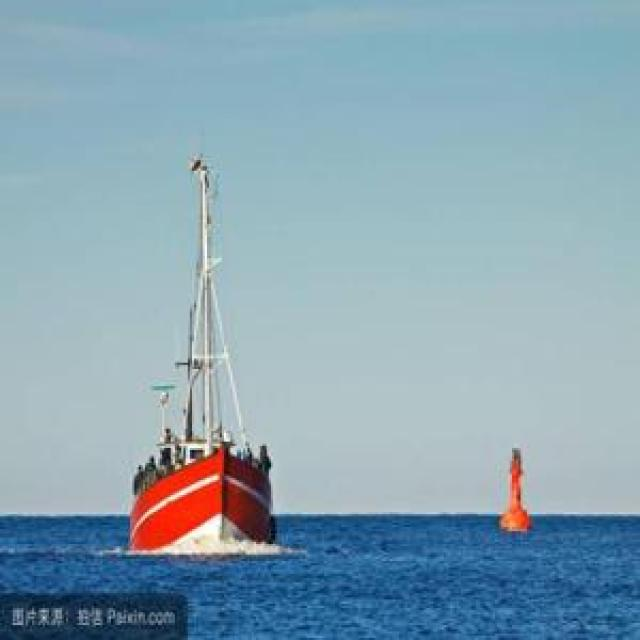fishing boat: (121, 151, 276, 559)
